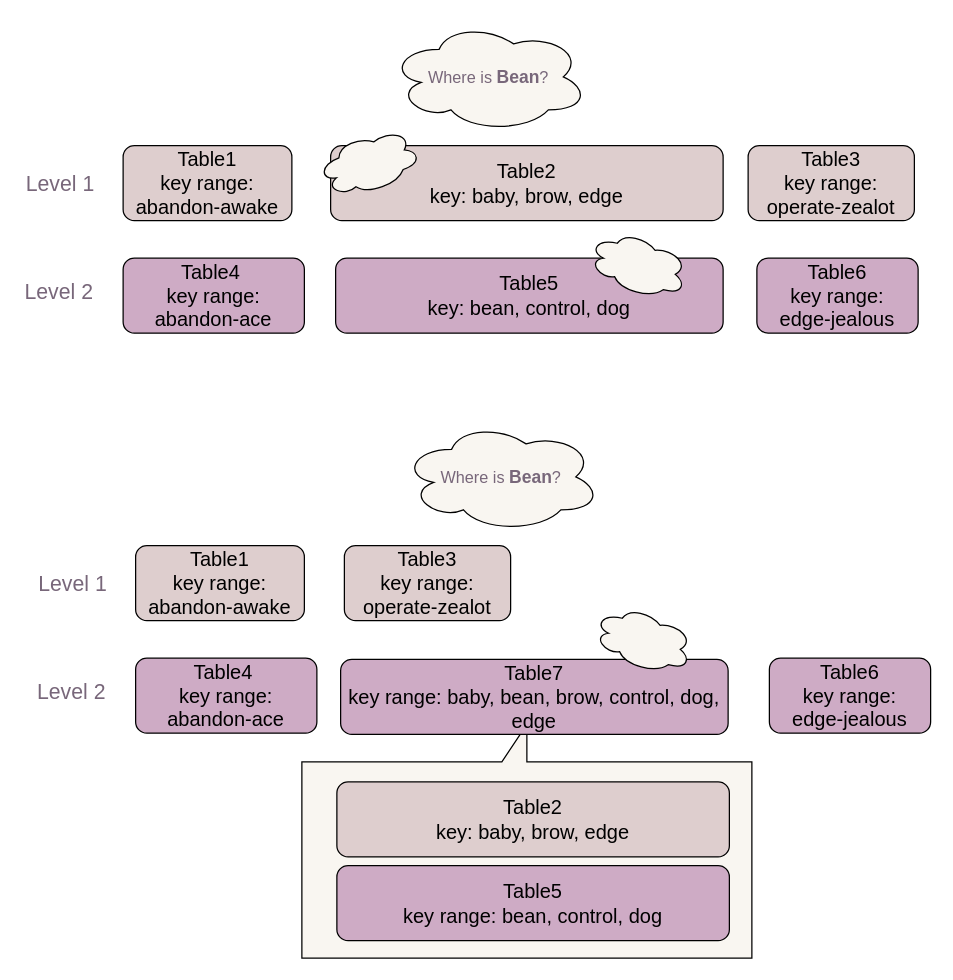
Some shapes in this 953 by 980 pixel diagram are drawn without their labels. The shapes that lost their labels are listed below. From the top down, each one's centre as x and y in pixels, then its label:
At (367,162): "Here?".
At (638,264): "No! Here!".
At (642,639): "Here!".
